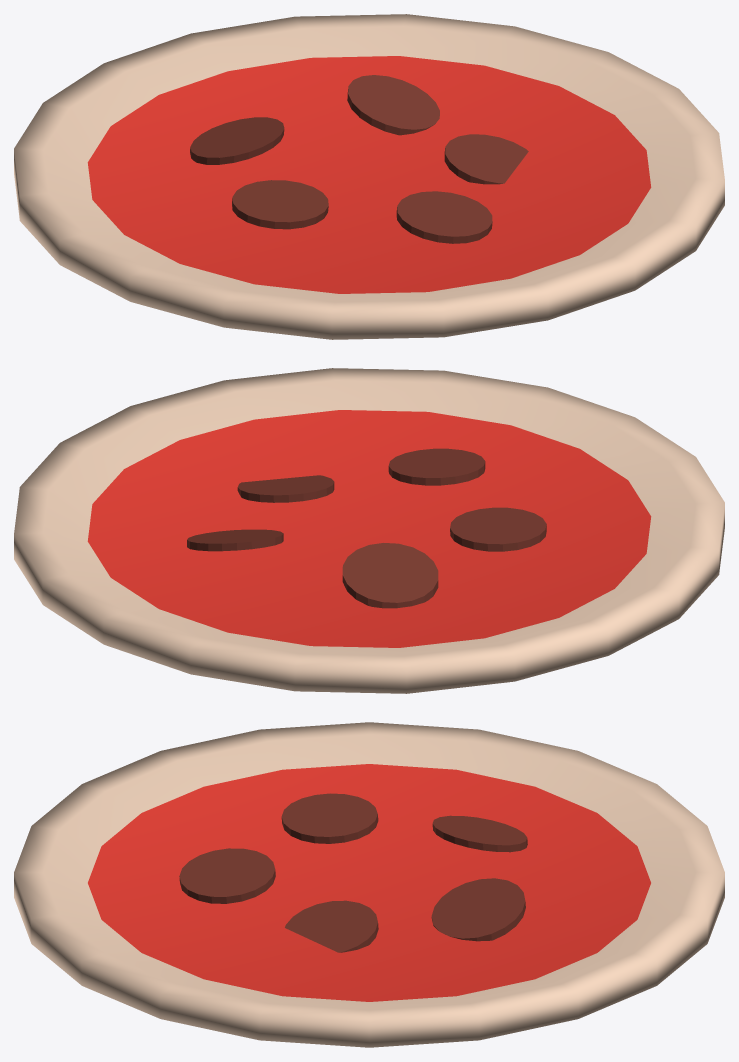
File: RawPizza(WithTomato And Pepperoni).glb
3 views of the same model, one above another, from view 1: azimuth 30°, elevation 25°; view 2: azimuth 150°, elevation 25°; view 3: azimuth 270°, elevation 25° (orthographic).
Visible parts, largest first — view 1: Cylinder.047; view 2: Cylinder.047; view 3: Cylinder.047.
Part boxes in pixels (bbox=[...]): Cylinder.047: bbox=[14, 14, 724, 339]; Cylinder.047: bbox=[14, 368, 724, 693]; Cylinder.047: bbox=[14, 722, 724, 1047].
Bounding box in the file's own units: 0.8833 × 0.0557 × 0.8833.
